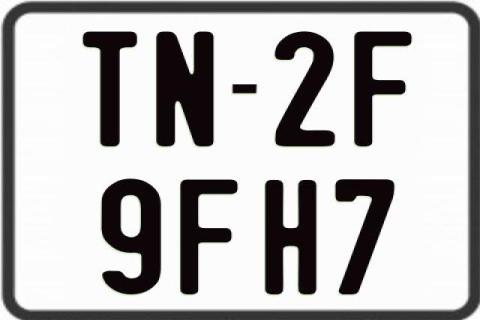0: (335, 177, 400, 295), (101, 176, 163, 296), (274, 31, 334, 147)
F: (353, 29, 415, 147), (180, 177, 243, 292)
H: (262, 179, 318, 297)
N: (155, 29, 213, 145)
T: (80, 29, 139, 145)
